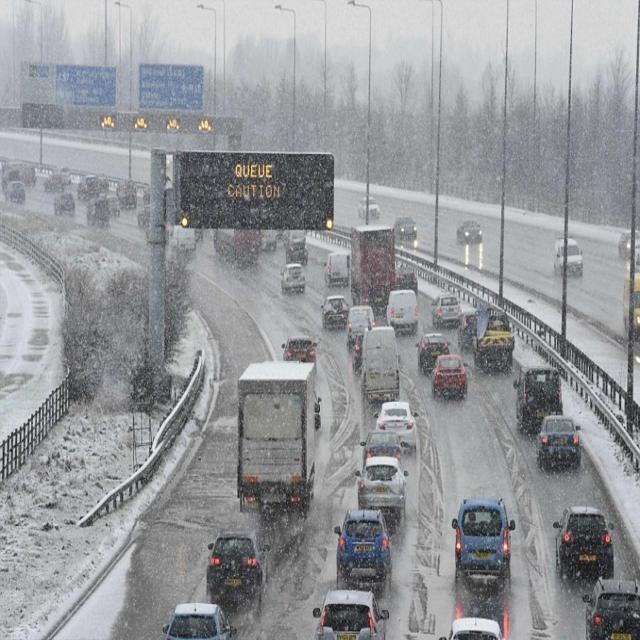Car: (204, 526, 268, 617), (452, 494, 516, 584), (334, 508, 394, 591), (559, 501, 616, 585), (312, 586, 388, 640), (356, 455, 409, 527), (584, 575, 640, 639), (514, 365, 564, 434), (162, 601, 236, 640), (537, 413, 582, 472), (374, 399, 418, 454), (362, 428, 406, 472), (430, 353, 469, 401), (386, 288, 418, 336), (446, 614, 504, 640), (417, 333, 451, 374), (346, 304, 376, 348), (554, 238, 585, 278), (452, 303, 478, 350), (432, 292, 462, 330), (320, 293, 350, 329), (347, 325, 371, 370), (282, 335, 317, 365), (325, 250, 351, 288), (78, 174, 108, 202), (280, 263, 306, 294), (618, 229, 640, 260), (392, 216, 418, 242), (457, 220, 482, 244), (358, 197, 380, 220), (6, 180, 26, 204)
Truck: (233, 361, 322, 521), (349, 220, 397, 303)
